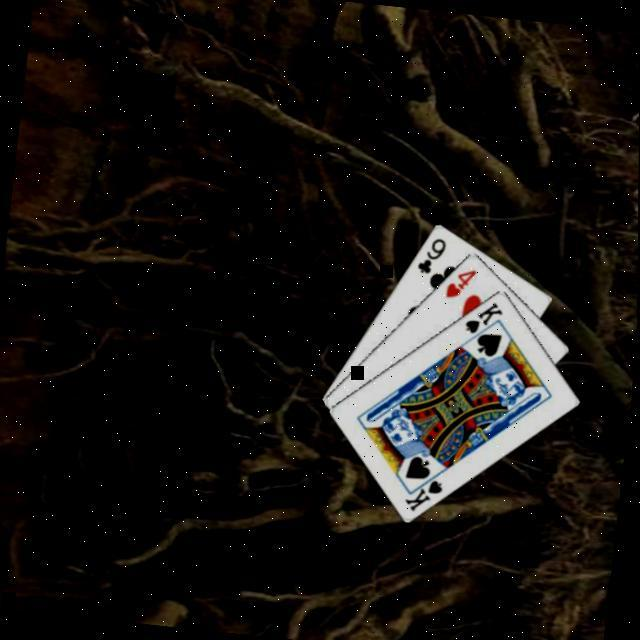4H: (443, 263, 481, 302)
9C: (414, 232, 450, 277)
KS: (402, 465, 449, 516), (462, 294, 508, 338)
